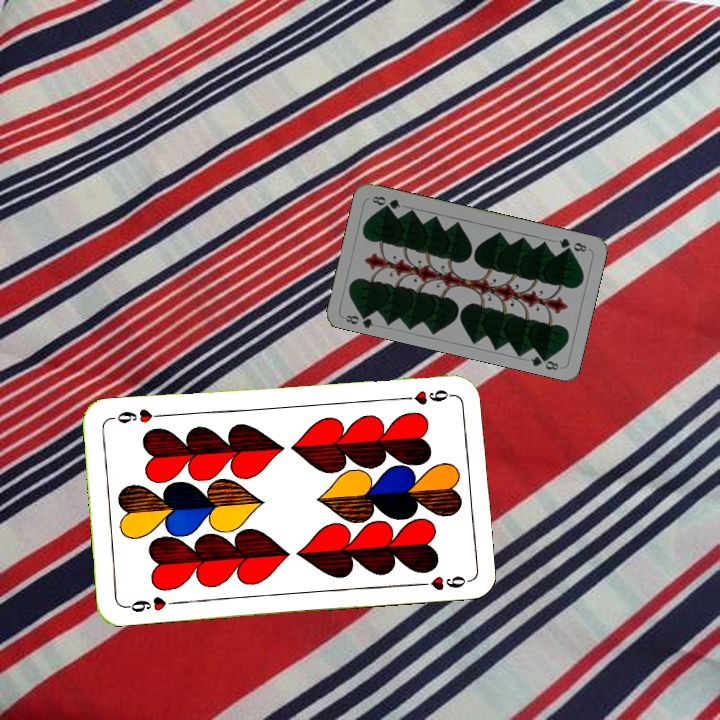G8: (341, 308, 376, 330), (555, 234, 589, 254)
H9: (121, 593, 180, 615), (396, 385, 455, 407)
